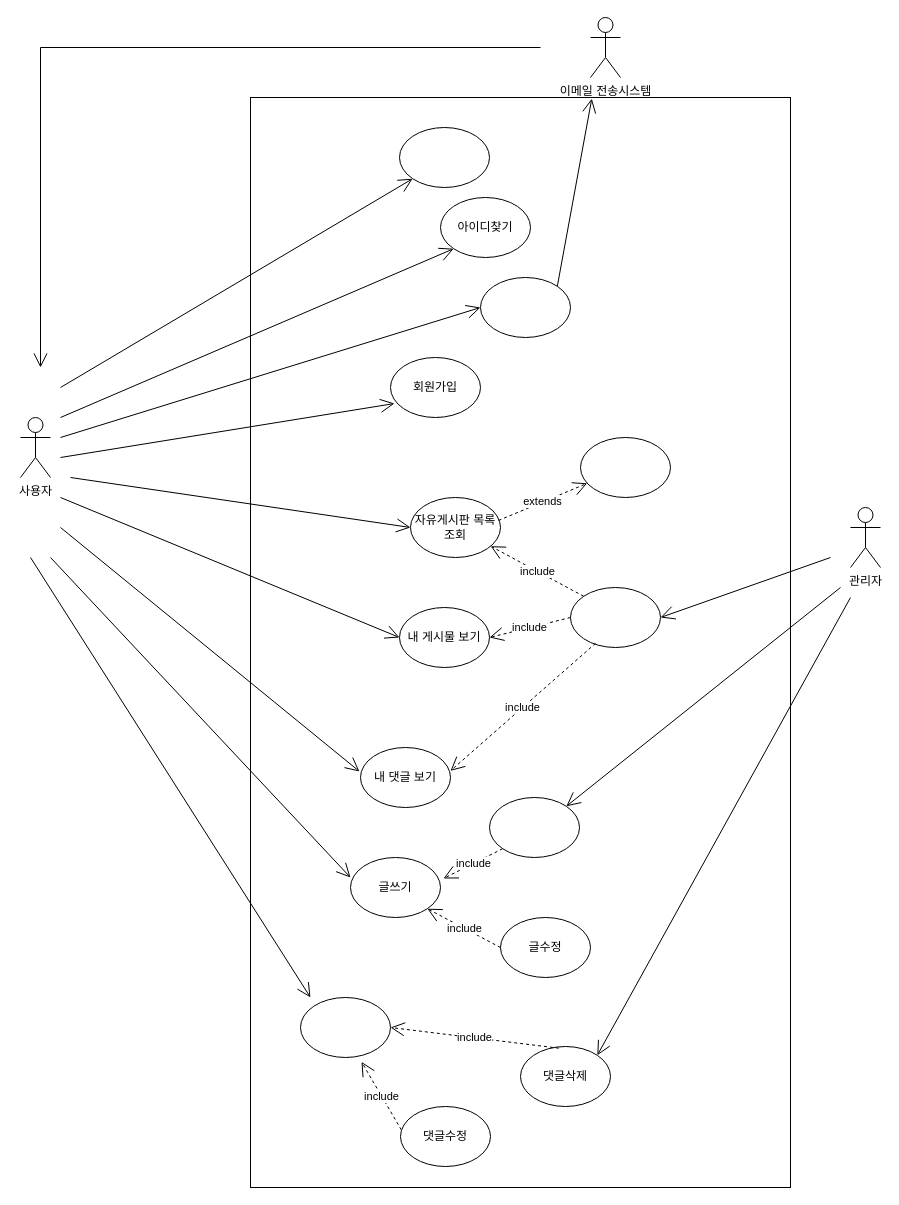
Some shapes in this 899 by 1205 pixel diagram are drawn without their labels. The shapes that lost their labels are listed below. From the top down, each one's centre as x and y in pixels, then its label:
At [444,157]: "로그인".
At [525,307]: "비밀번호찾기".
At [625,467]: "조건 검색".
At [615,617]: "자유게시판 상세조회".
At [534,827]: "글삭제".
At [345,1027]: "댓글달기".
